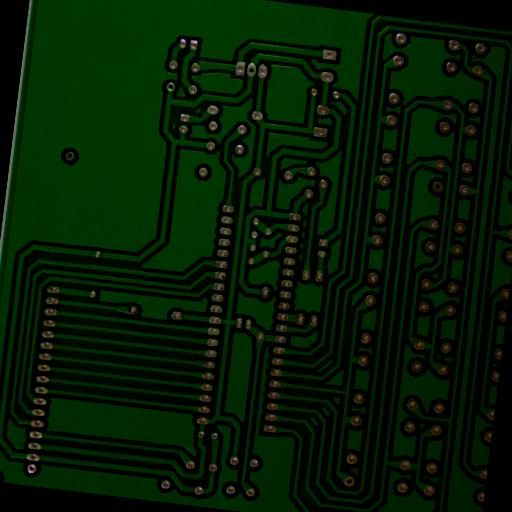missing_hole: (246, 62, 258, 76), (343, 474, 356, 486), (432, 179, 444, 192), (65, 150, 76, 160), (166, 81, 176, 92)
